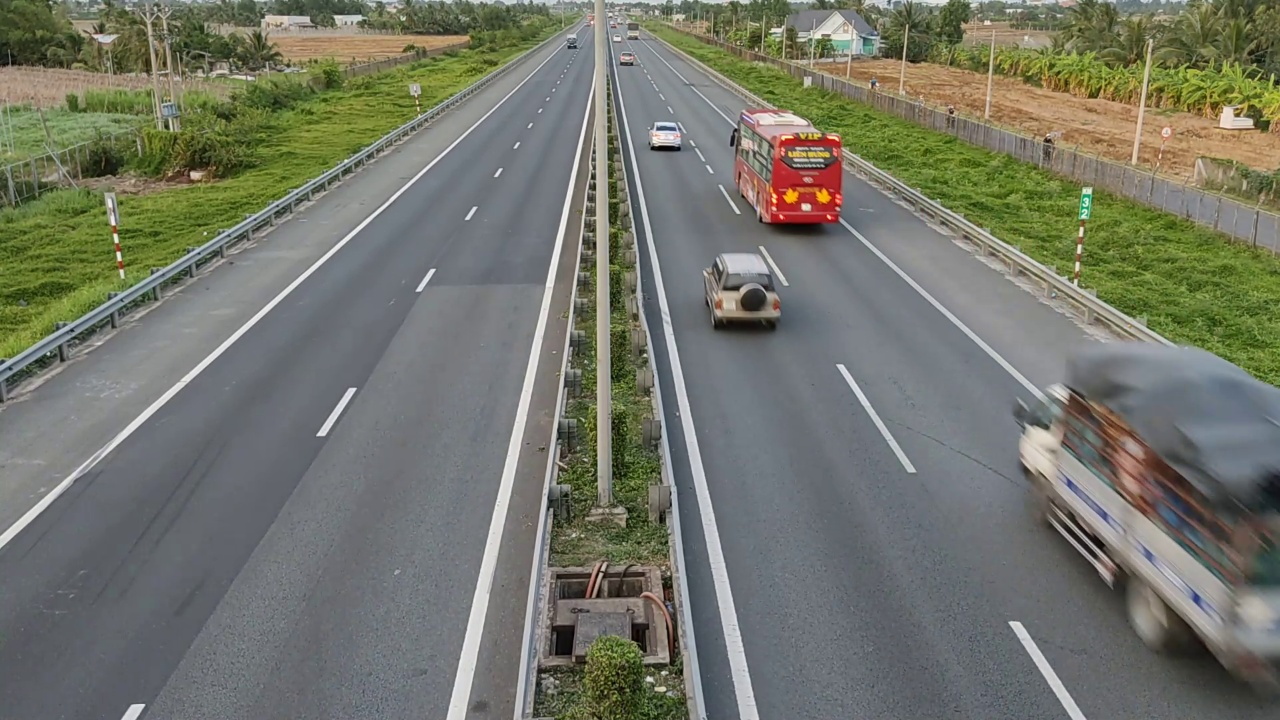bus: (731, 108, 843, 224)
car: (702, 249, 783, 330), (647, 121, 684, 150), (619, 51, 637, 65)
truck: (1013, 343, 1279, 691)
